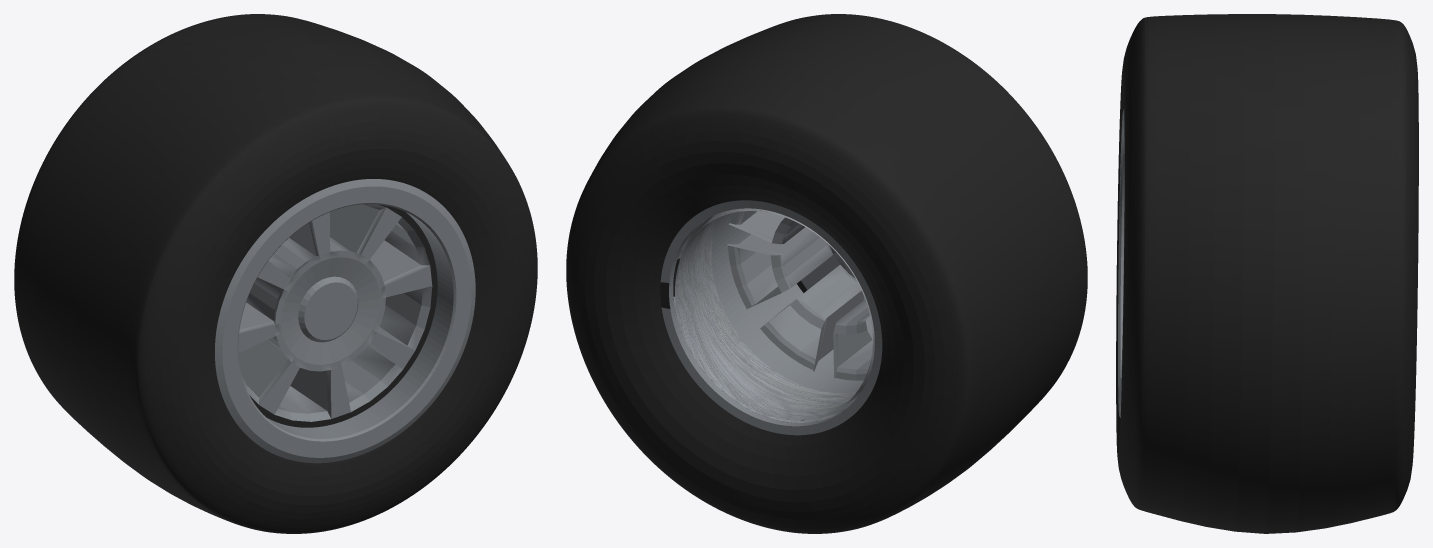
The model's file is front_wheel_left.obj.
The picture shows the model from 3 angles, left to right: view 1: azimuth 30°, elevation 25°; view 2: azimuth 150°, elevation 25°; view 3: azimuth 270°, elevation 25°; orthographic projection. The views are drawn at different scales.
Parts seen in each view (by area): view 1: front_wheels_left_Rim_inner.001_Circle.004; view 2: front_wheels_left_Rim_inner.001_Circle.004; view 3: front_wheels_left_Rim_inner.001_Circle.004.
Boxes of the visible parts, <box> form: front_wheels_left_Rim_inner.001_Circle.004: <box>14,14,537,533</box>; front_wheels_left_Rim_inner.001_Circle.004: <box>566,14,1087,533</box>; front_wheels_left_Rim_inner.001_Circle.004: <box>1116,14,1418,533</box>.
Bounding box in the file's own units: 0.4239 × 0.4235 × 0.2467.
Materials: 1 (1 with a texture image).
